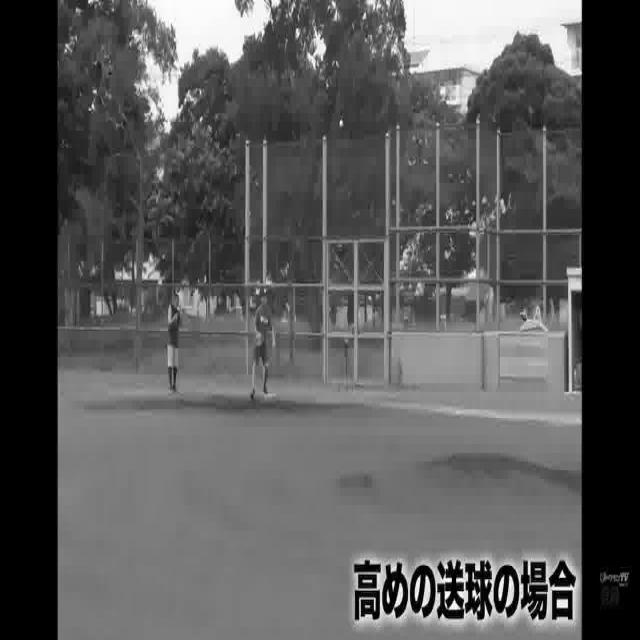baseball: (339, 120, 344, 130)
